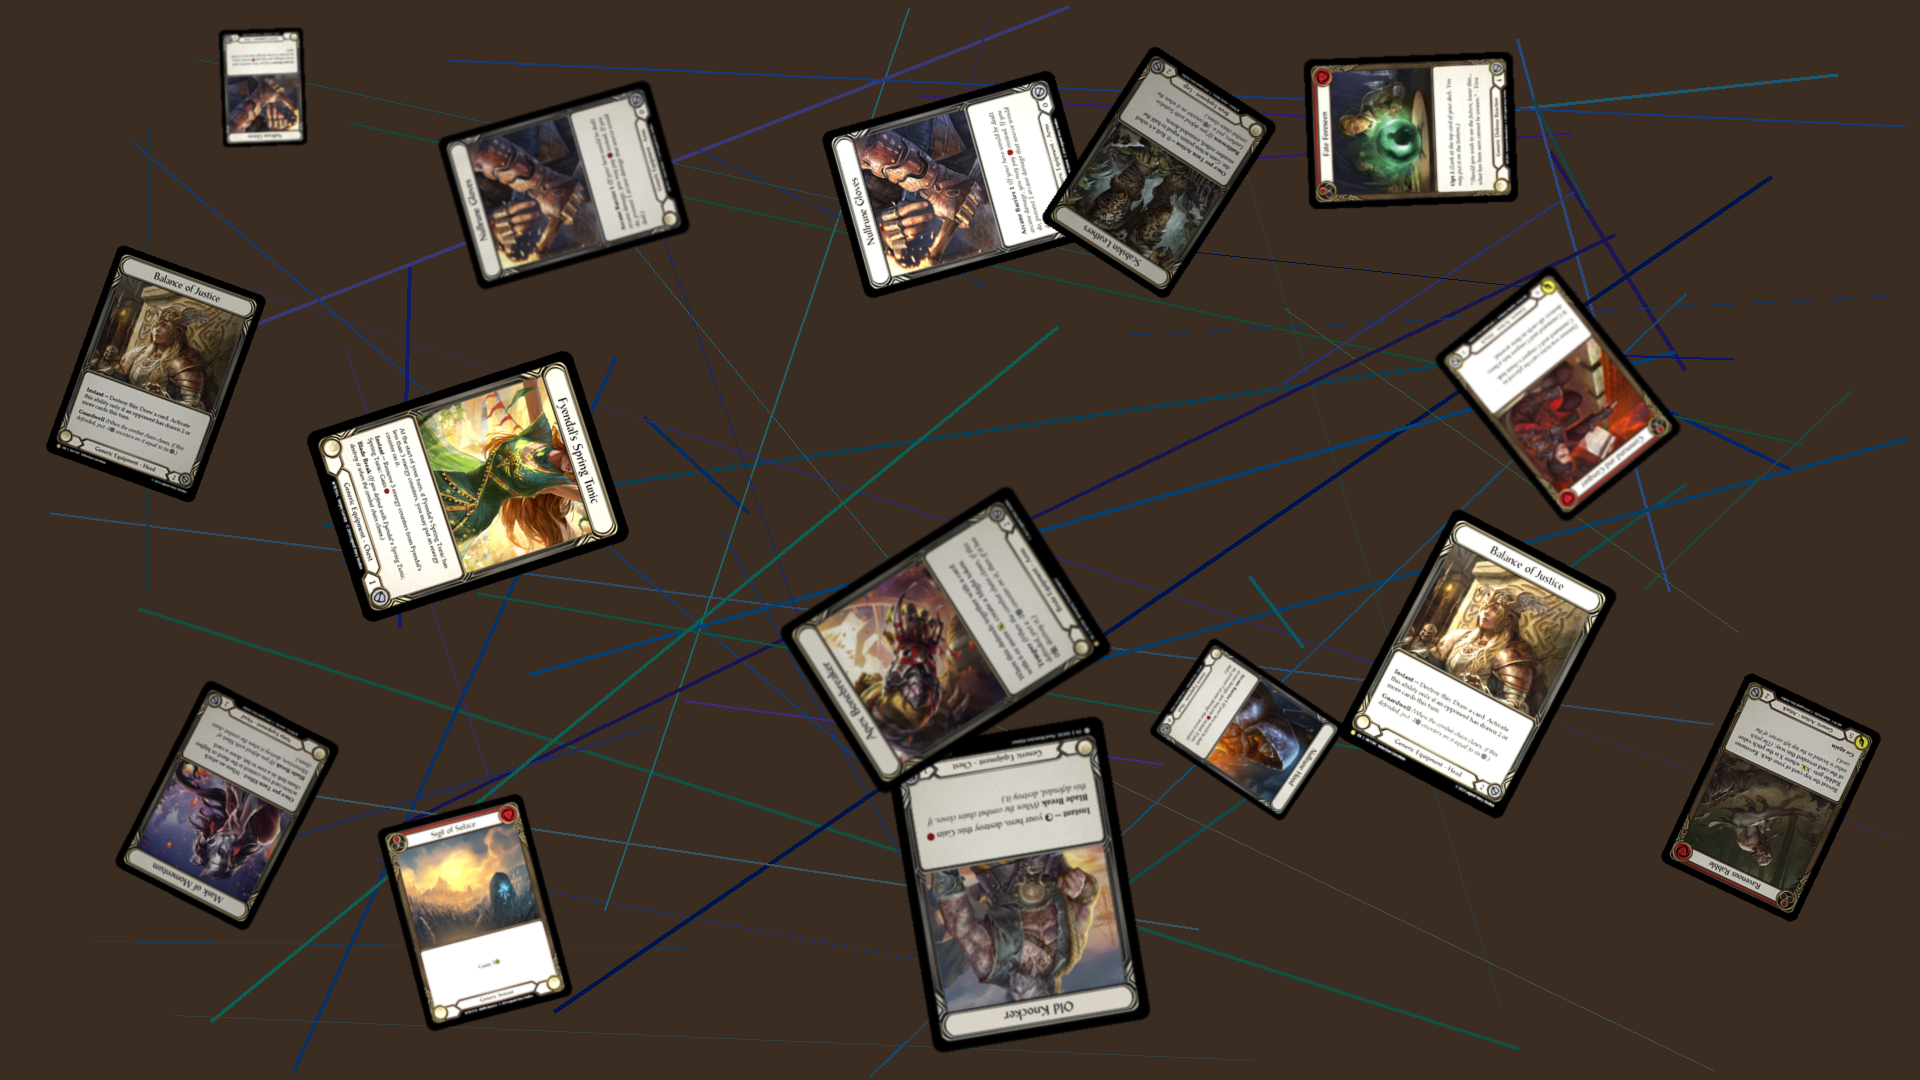Apex_Bonebreaker_HVY008: (777, 483, 1114, 796)
Balance_of_Justice_HVY195: (1335, 506, 1619, 822), (44, 243, 268, 505)
Command_and_Conquer_ARC159: (1432, 262, 1684, 525)
Fate_Foreseen_ARC200: (1303, 51, 1519, 210)
Fyendals_Spring_Tunic_WTR150: (305, 348, 632, 625)
Mask_of_Momentum_WTR079: (112, 678, 342, 934)
Nullrune_Gloves_ARC157: (820, 69, 1098, 301), (436, 78, 692, 291), (218, 26, 309, 148)
Nullrune_Hood_ARC155: (1147, 636, 1346, 823)
Old_Knocker_SEA182: (884, 715, 1153, 1054)
Ravenous_Rabble_ARC191: (1658, 671, 1884, 924)
Scabskin_Leathers_WTR004: (1039, 44, 1279, 301)
Sigil_of_Solace_WTR173: (376, 793, 574, 1033)
